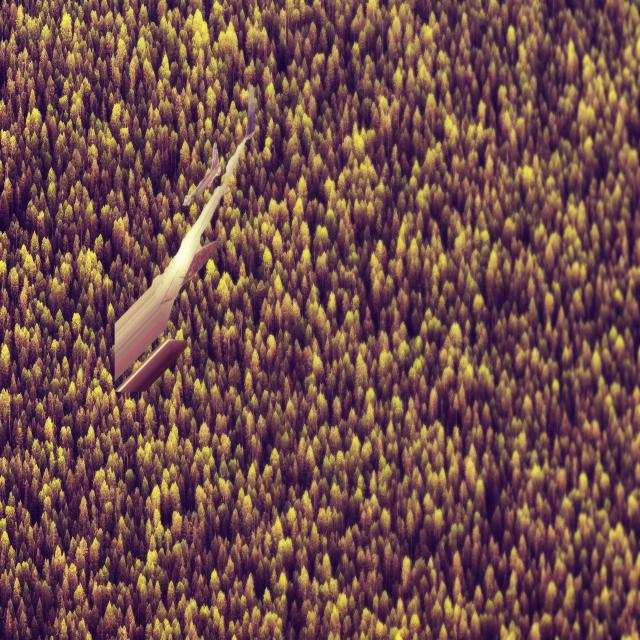airplane: (112, 82, 256, 399)
